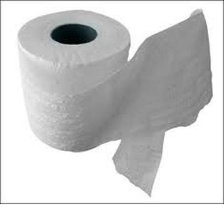tissue: (10, 2, 218, 201)
